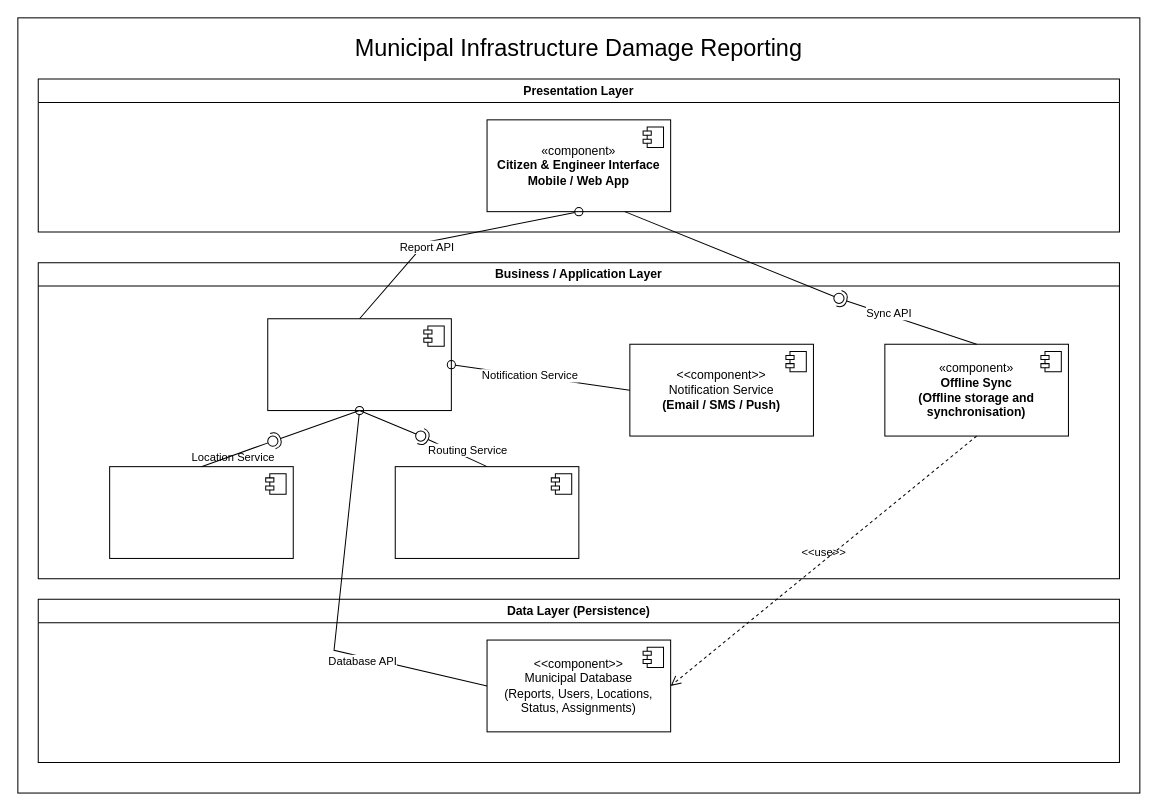
The diagram is 1158 pixels wide and 811 high, and some of its shapes have lost their labels. The shapes that lost their labels are listed below. From the top down, each one's centre as x and y in pixels, then its label:
[359,364]: <<component>> Report Management (Create, Validate, Track)
[201,512]: <<component>> Location & GIS (GPS Extraction, Map)
[486,512]: «component» Department Routing (Assign relevant departments)
